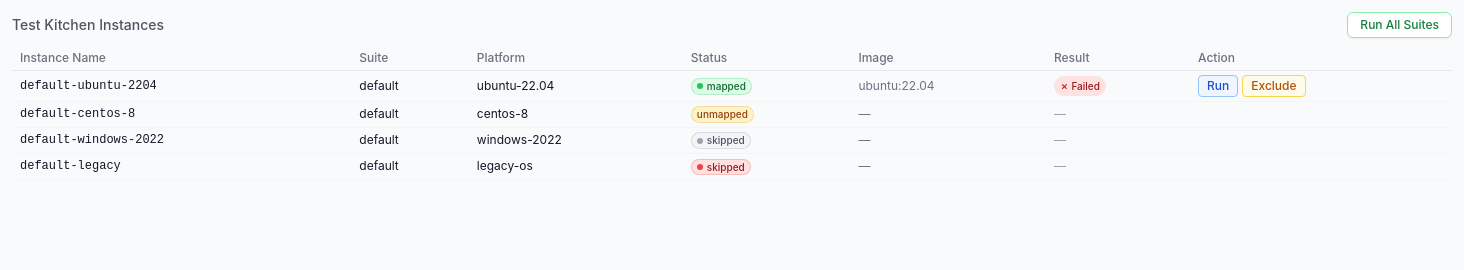
Test: GitKitchenSection › expands output when clicking a result badge
expect the text "Converging recipe" is not shown: met
Click the button "✗ Failed" at (1080, 86), box [1054, 78, 1106, 93]
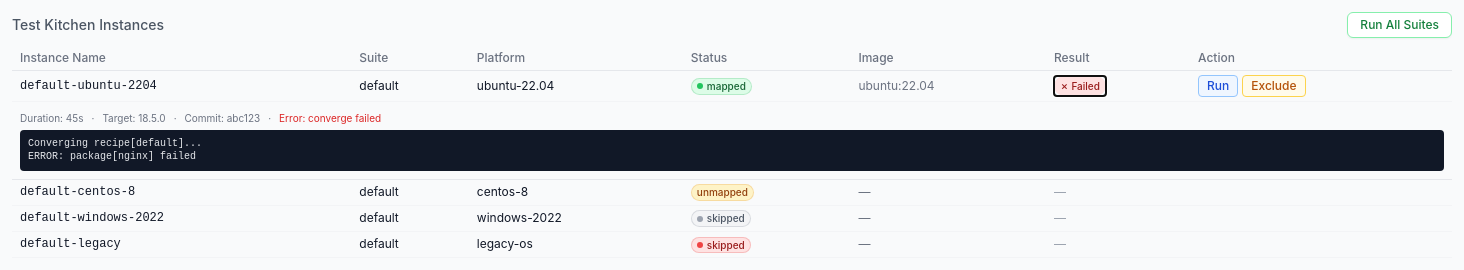
expect the text "Converging recipe[default]... ERROR: package[nginx] failed" is shown: met, box [20, 130, 1444, 171]
expect the text "Duration: 45s" is shown: met, box [20, 110, 84, 126]
expect the text "Error: converge failed" is shown: met, box [279, 110, 381, 126]
